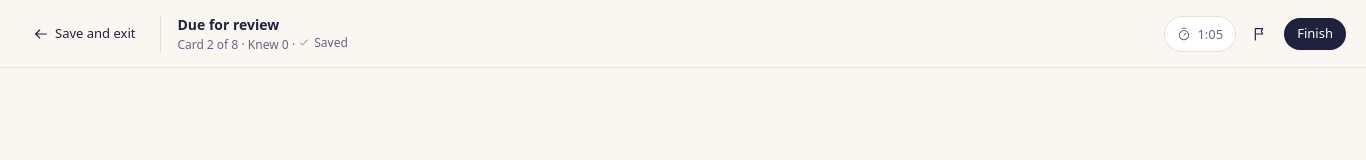
Scenario: hides and restores the count-up timer
Click the button named "Time used 1:05": click(1200, 34) [1164,16,1236,52]
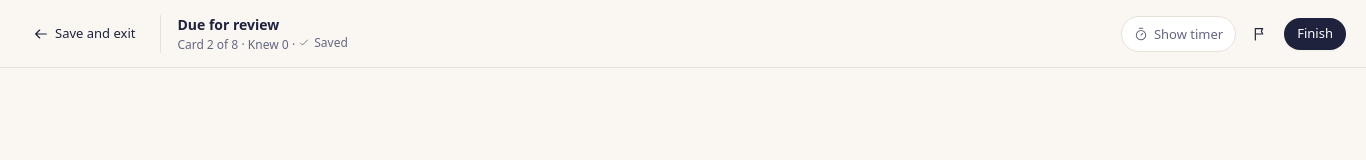
Click the button "Show timer": click(1179, 34) [1121,16,1236,52]
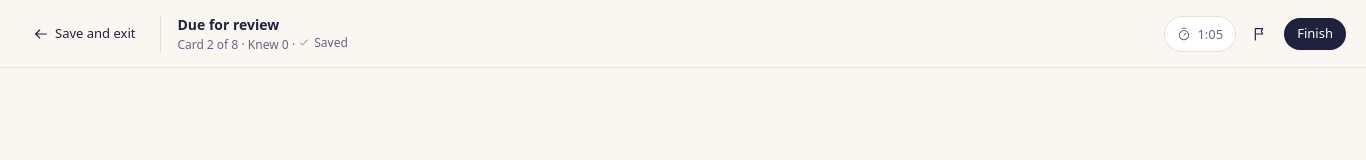
Expected: the button named "Time used 1:05" is shown, [1164,16,1236,52]
